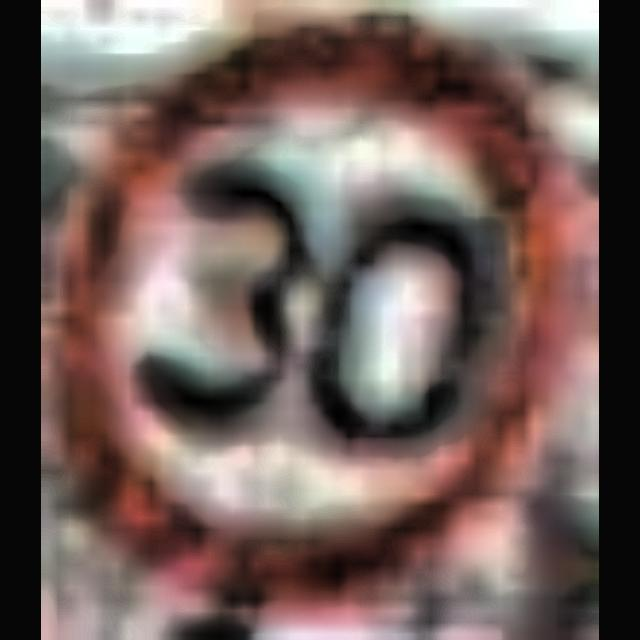speed_30: (78, 35, 560, 610)
